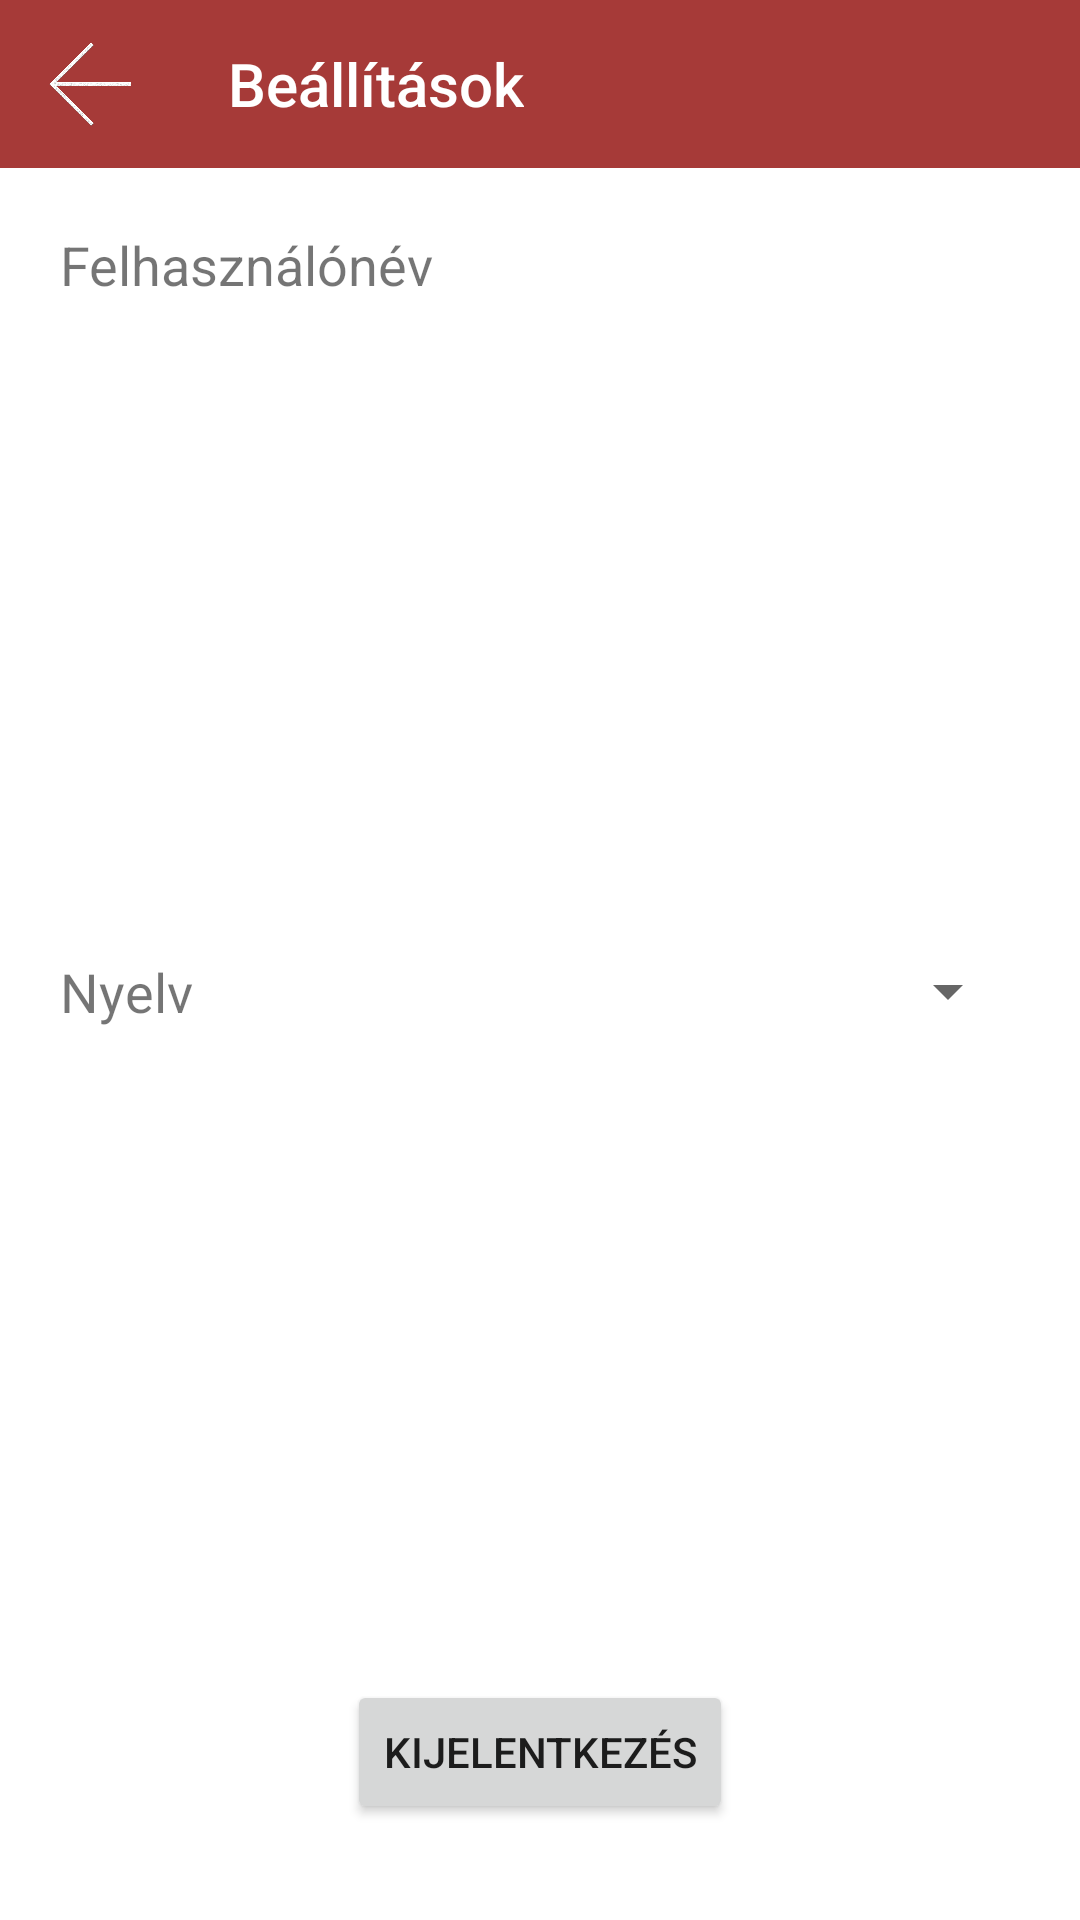

Locate icon controls on the screen. Image size 1080*1920, boxes as (x1, y1, x2, y2).
back: (50, 43, 131, 126)
